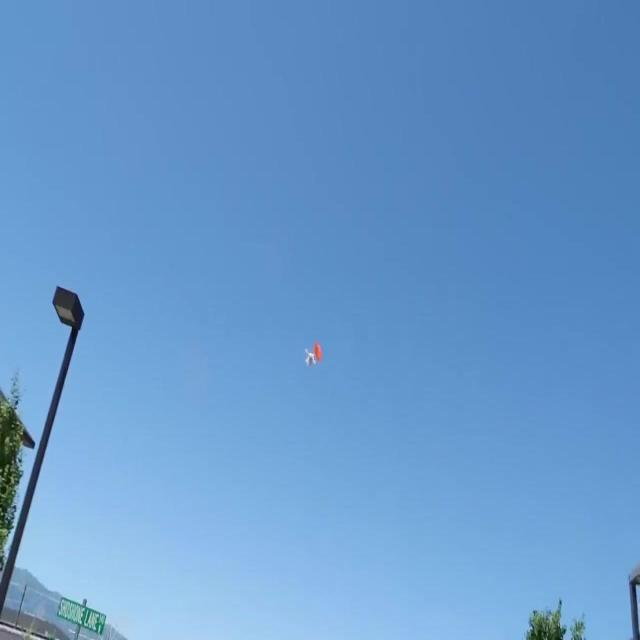drone: (302, 349, 316, 370)
